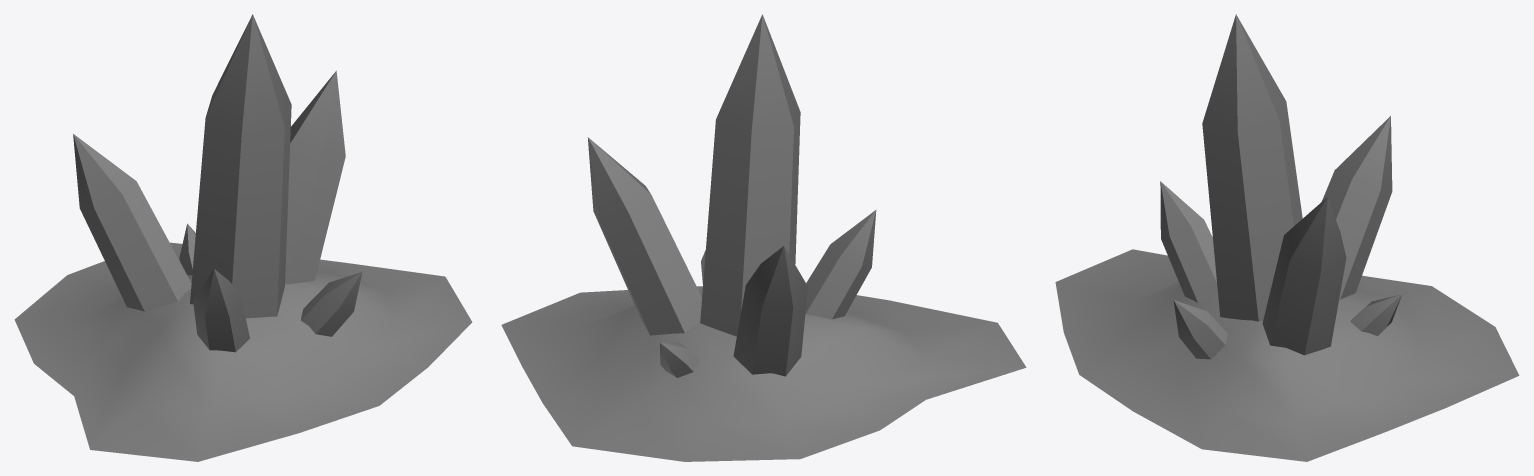
File: crystal_ice_C_blue.fbx
3 renders of one model, left to right at view 1: azimuth 30°, elevation 25°; view 2: azimuth 150°, elevation 25°; view 3: azimuth 270°, elevation 25°, orthographic.
Visible parts, largest first — view 1: crystal_ice_C_blue; view 2: crystal_ice_C_blue; view 3: crystal_ice_C_blue.
Boxes of the visible parts, <box> form: crystal_ice_C_blue: <box>14,14,472,461</box>; crystal_ice_C_blue: <box>501,14,1026,461</box>; crystal_ice_C_blue: <box>1055,14,1519,461</box>.
Bounding box in the file's own units: 1.85 × 1.48 × 1.71.
